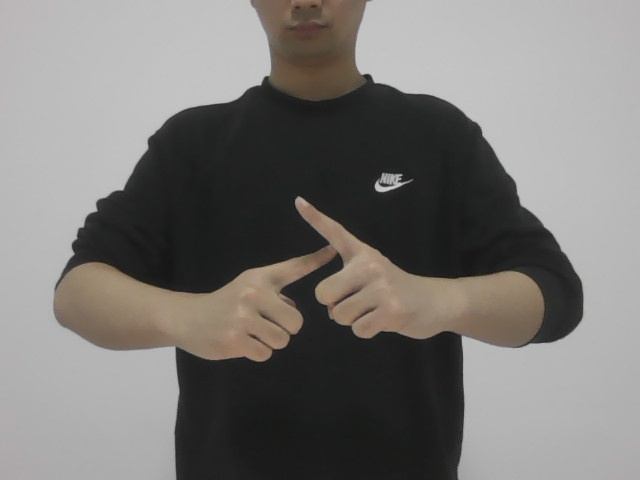peason: (205, 189, 397, 365)
